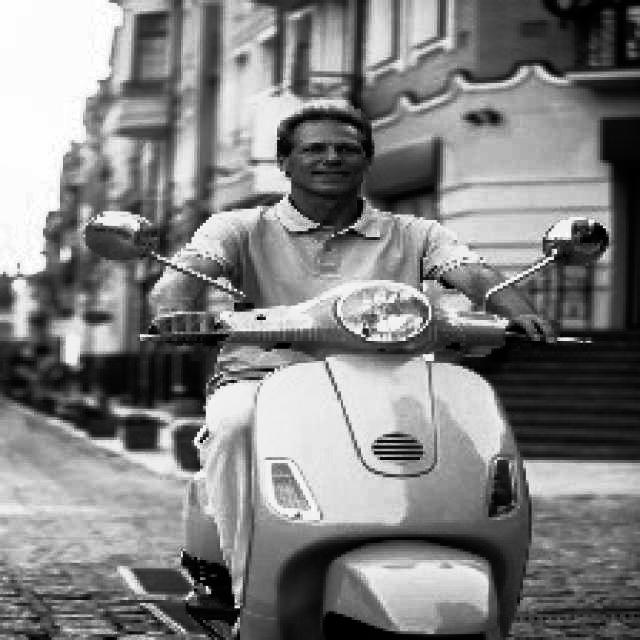Bike: (216, 305, 569, 639)
